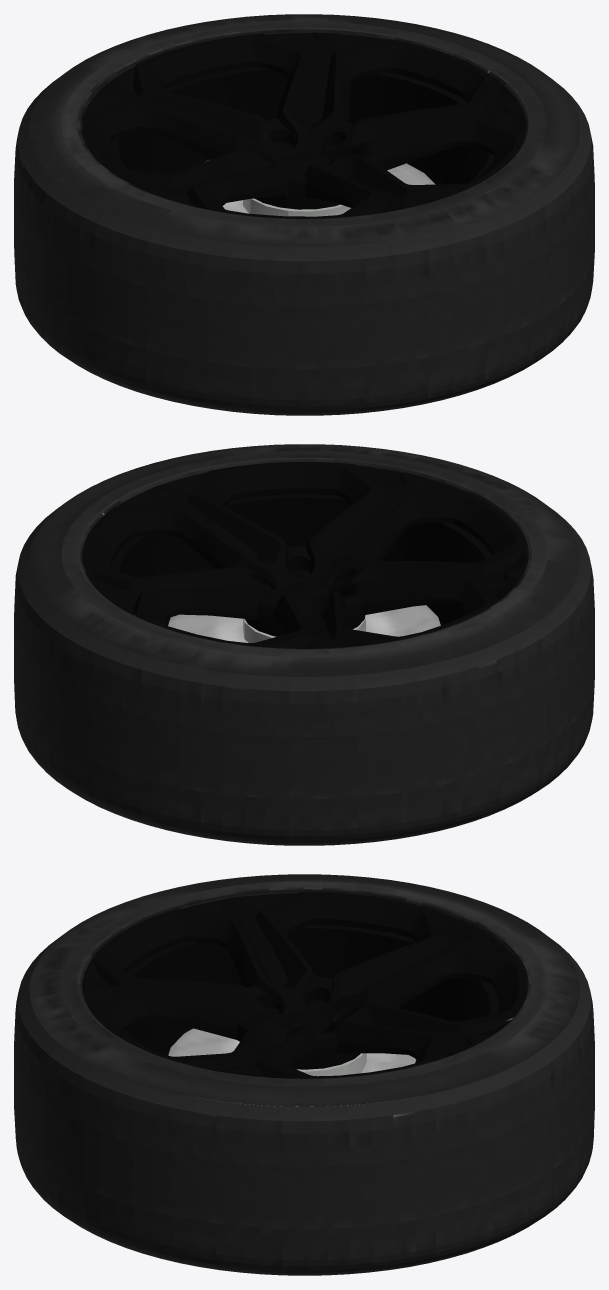
The model's file is car_wheel.obj.
3 views of the same model, one above another, from view 1: azimuth 30°, elevation 25°; view 2: azimuth 150°, elevation 25°; view 3: azimuth 270°, elevation 25° (orthographic).
Visible parts, largest first — view 1: car_wheel; view 2: car_wheel; view 3: car_wheel.
Boxes of the visible parts, x1,y1,x2,y2 form: car_wheel: (14,14,594,415); car_wheel: (14,444,594,845); car_wheel: (14,874,594,1275).
Size of the model in its own units: 0.0722 by 0.0251 by 0.0722.
1 material, 1 textured.
